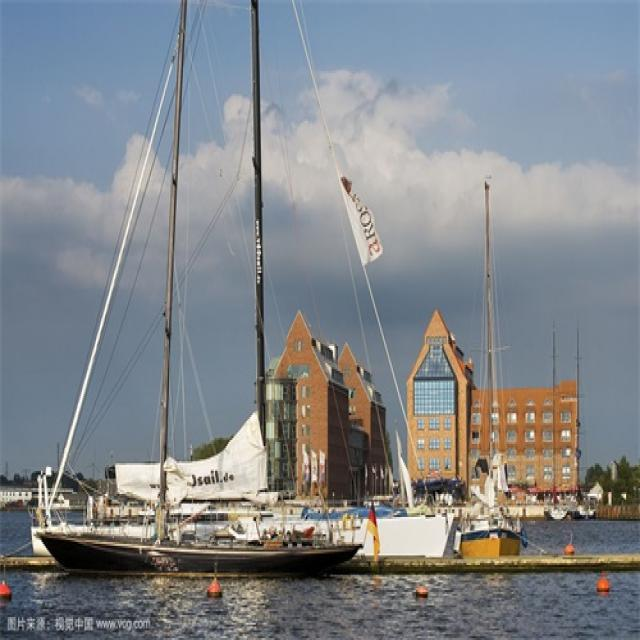Ship: (20, 6, 396, 582), (450, 178, 548, 553)
